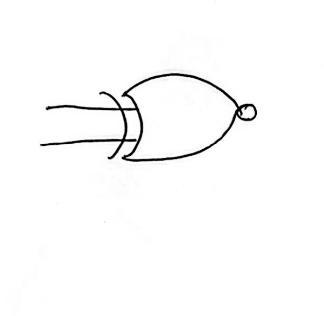XNOR: (86, 66, 267, 167)
